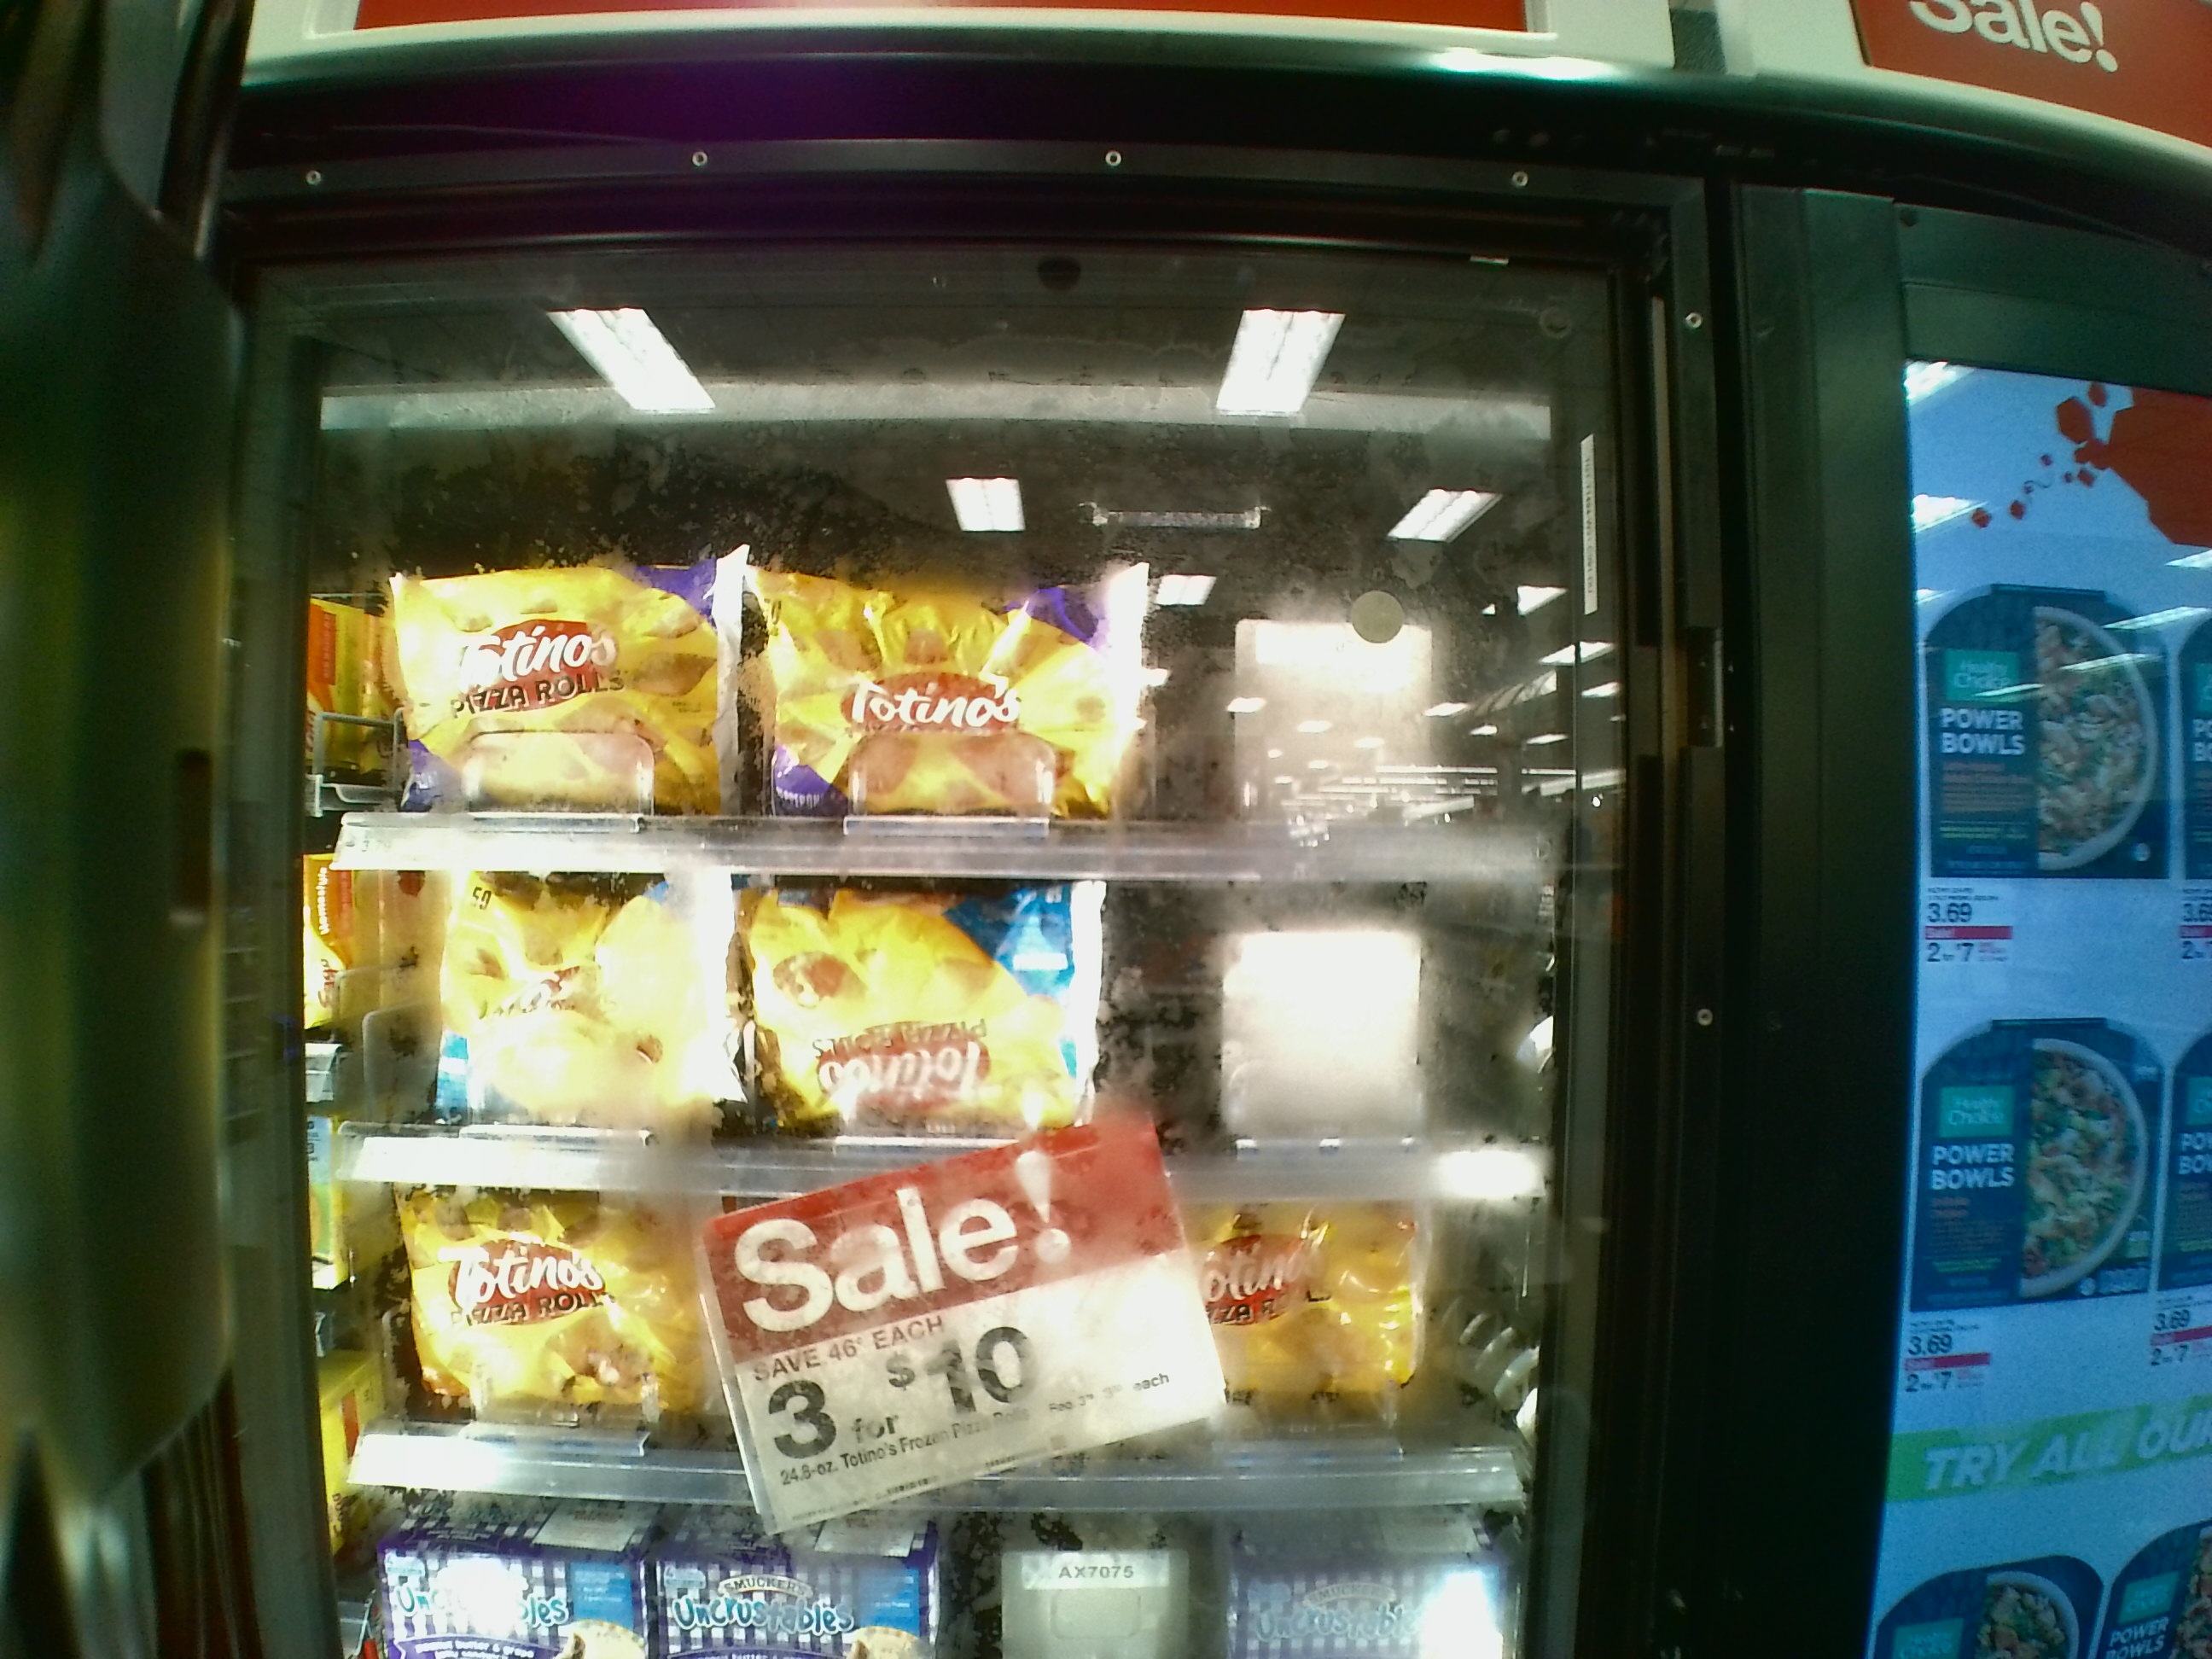shelf: (301, 542, 1569, 892), (307, 882, 1569, 1208), (314, 1180, 1555, 1500)
